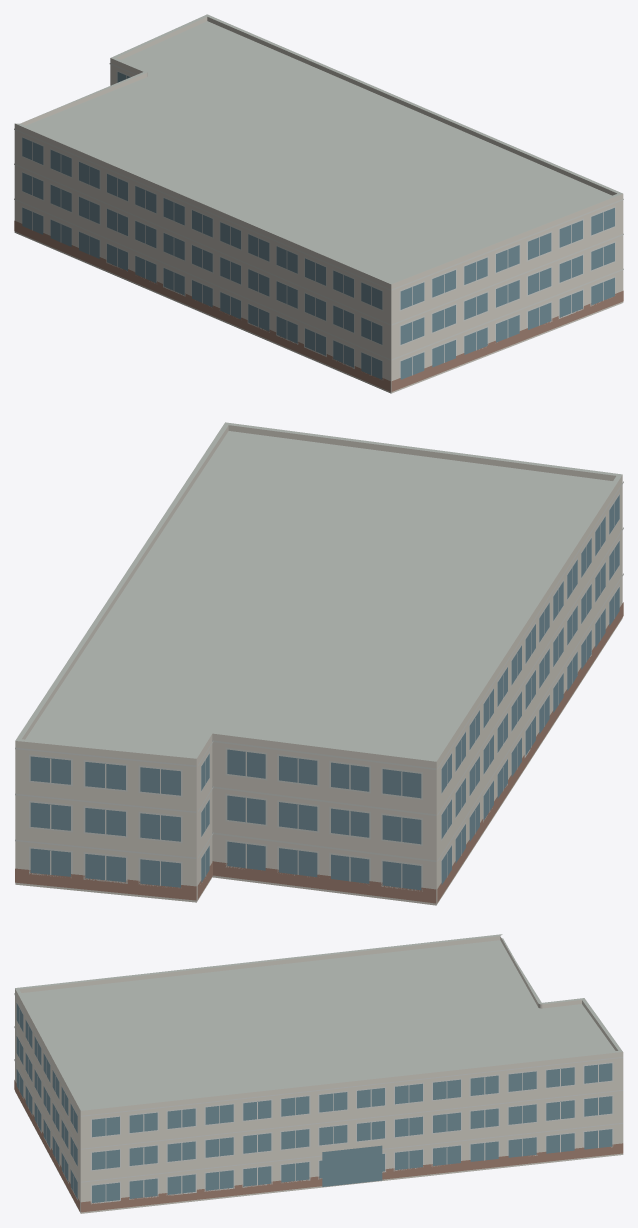
The model's file is public-07f397e9-5385-4a8c-b090-30245728c8ef.glb.
3 views of the same model, one above another, from view 1: azimuth 30°, elevation 25°; view 2: azimuth 150°, elevation 25°; view 3: azimuth 270°, elevation 25° (orthographic). The views are drawn at different scales.
Visible parts, largest first — view 1: public-07f397e9-5385-4a8c-b090-30245728c8ef; view 2: public-07f397e9-5385-4a8c-b090-30245728c8ef; view 3: public-07f397e9-5385-4a8c-b090-30245728c8ef.
Part boxes in pixels (x1,y1,x2,y2): public-07f397e9-5385-4a8c-b090-30245728c8ef: (14, 14, 623, 393); public-07f397e9-5385-4a8c-b090-30245728c8ef: (15, 422, 623, 905); public-07f397e9-5385-4a8c-b090-30245728c8ef: (14, 934, 623, 1213).
Bounding box in the file's own units: 33.84 × 9.15 × 49.13.
